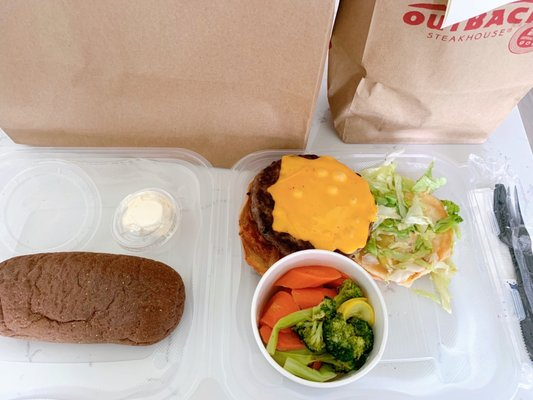sandwich: (493, 183, 533, 323)
sushi: (248, 250, 391, 388)
